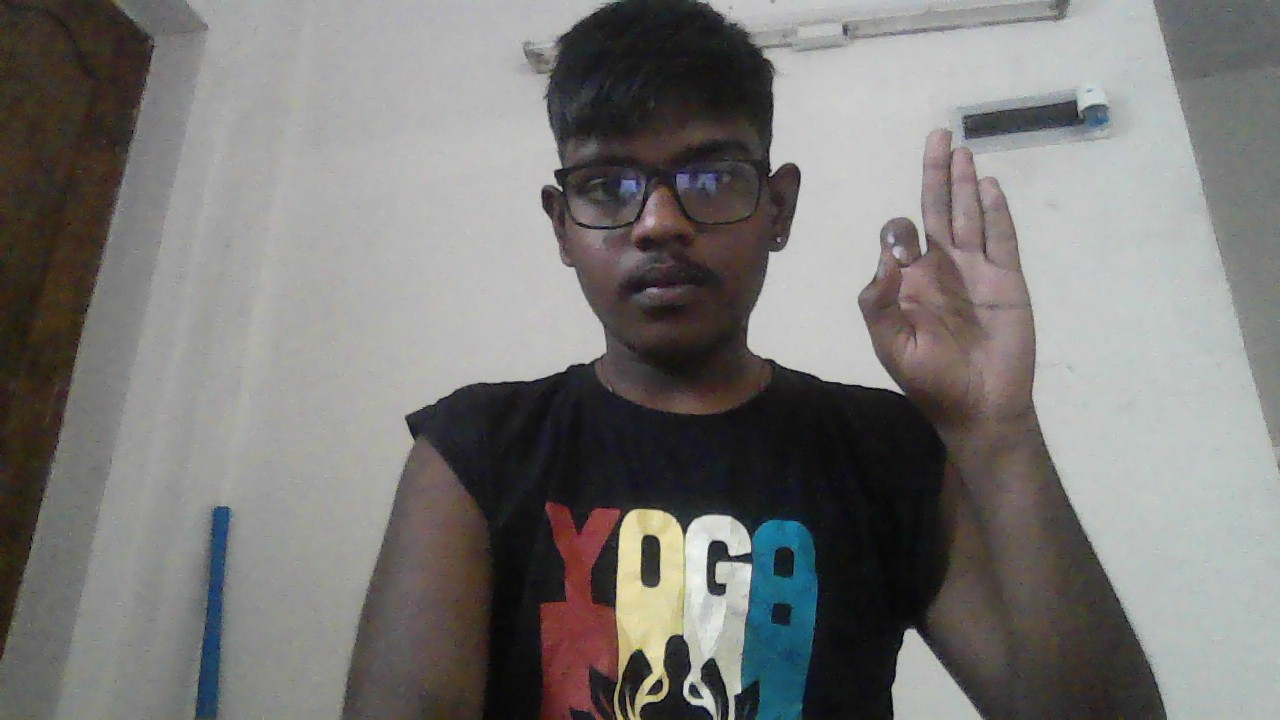F: (858, 128, 1037, 428)
